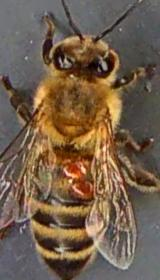varroa_mite: (70, 174, 104, 205), (62, 153, 93, 182)
